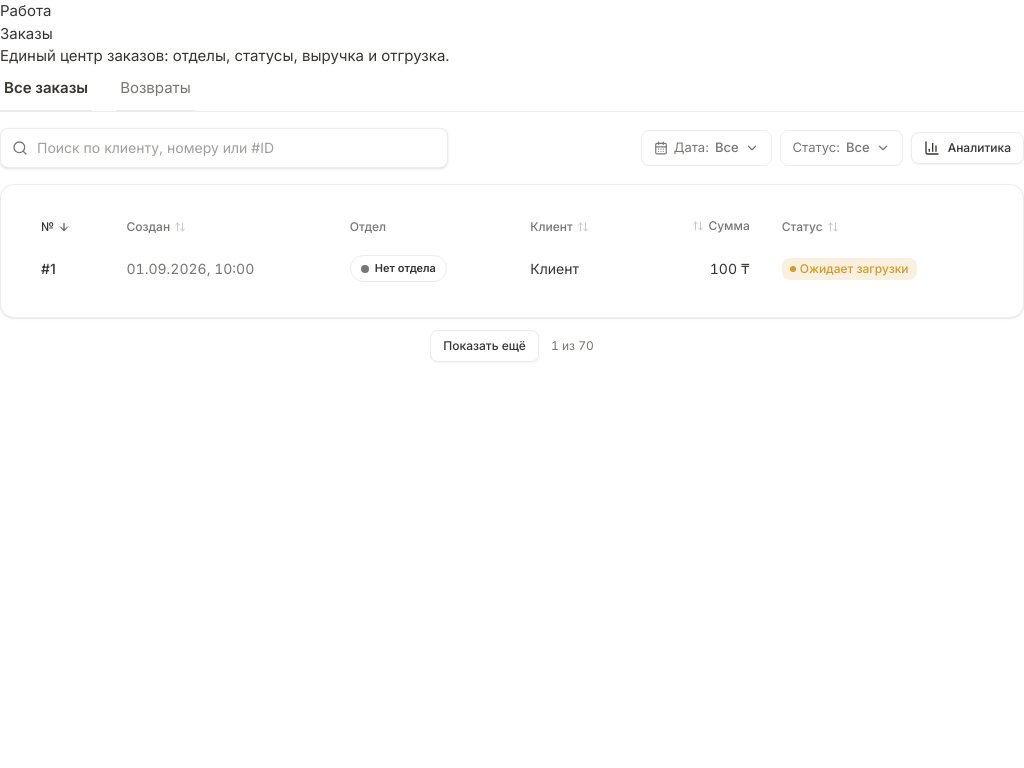
shows tenge and dollars of a department side by side: value, received with its own share, and debt
Click the button "Аналитика": (967, 148) [911,132,1023,164]
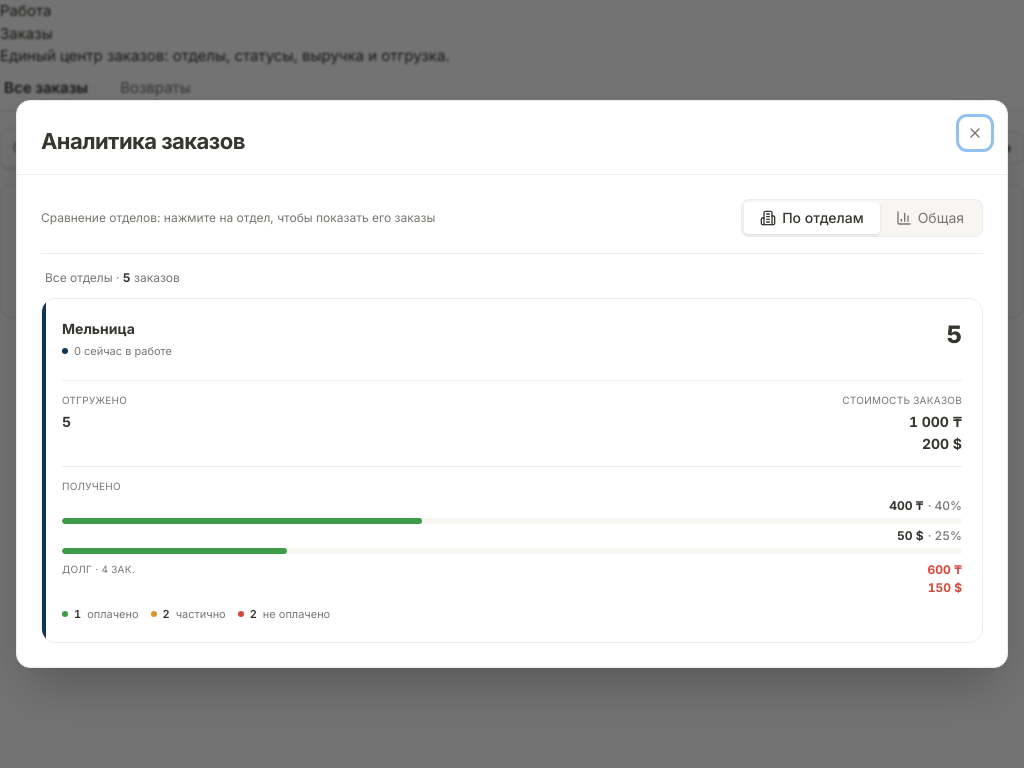
Result: the button "Мельница" shows "200 $" at [41,298,983,643]
Result: the button "Мельница" shows "600 ₸" at [41,298,983,643]
Result: the button "Мельница" shows "150 $" at [41,298,983,643]
